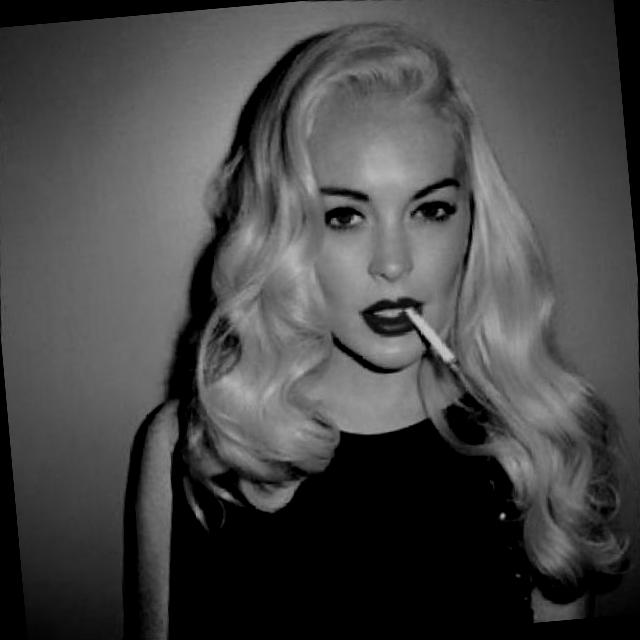cigarette: (400, 302, 470, 380)
